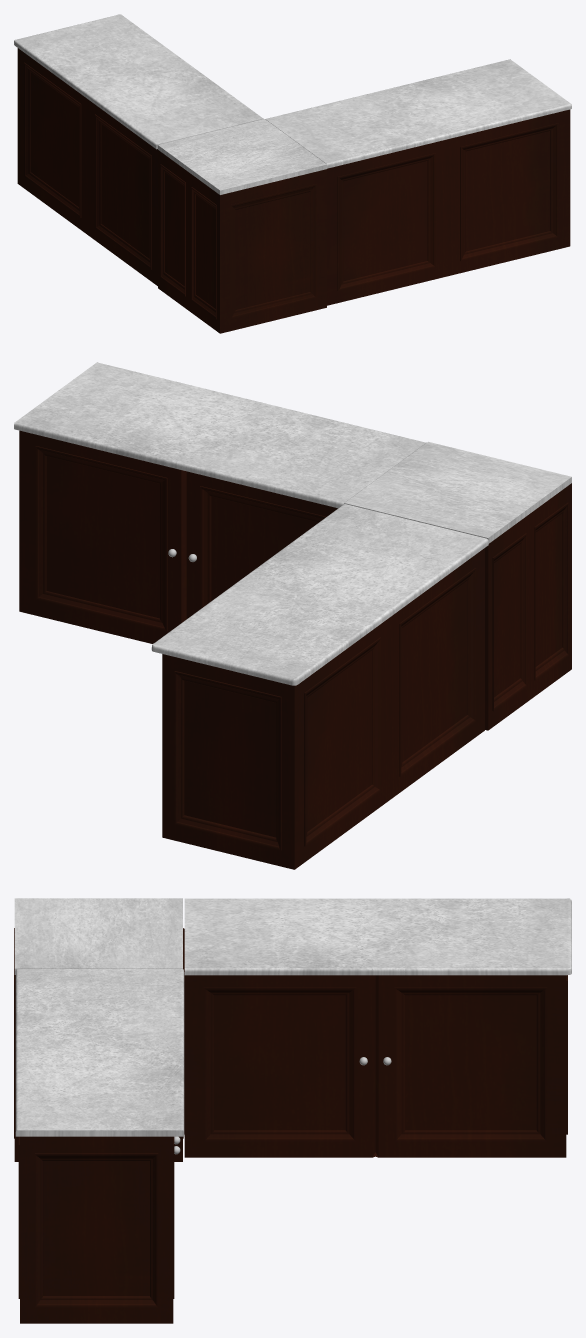
Rendered from CabinetsToFit.FBX.
The picture shows the model from 3 angles, top to bottom: view 1: azimuth 30°, elevation 25°; view 2: azimuth 150°, elevation 25°; view 3: azimuth 270°, elevation 25°; orthographic projection. The views are drawn at different scales.
Parts seen in each view (by area): view 1: Box001, Box004, Box002, cabCount, cabCount001, cabCount004; view 2: Box002, Box001, cabCount001, cabCount, Box004, cabCount004; view 3: Box002, cabCount001, Box001, cabCount, cabCount004, Box004.
Boxes of the visible parts, bbox=[...] form: Box001: bbox=[327, 109, 570, 305]; Box004: bbox=[158, 150, 326, 333]; Box002: bbox=[17, 48, 157, 285]; cabCount: bbox=[265, 59, 571, 168]; cabCount001: bbox=[14, 14, 263, 149]; cabCount004: bbox=[157, 119, 326, 194]; Box002: bbox=[162, 548, 484, 869]; Box001: bbox=[19, 430, 337, 643]; cabCount001: bbox=[151, 504, 488, 685]; cabCount: bbox=[14, 362, 426, 508]; Box004: bbox=[485, 483, 571, 730]; cabCount004: bbox=[344, 441, 571, 543]; Box002: bbox=[183, 928, 567, 1157]; cabCount001: bbox=[184, 898, 571, 975]; Box001: bbox=[18, 1136, 174, 1323]; cabCount: bbox=[15, 969, 184, 1136]; cabCount004: bbox=[14, 898, 182, 974]; Box004: bbox=[14, 928, 183, 1161].
Bounding box in the file's own units: 93.29 × 36.06 × 94.32.
